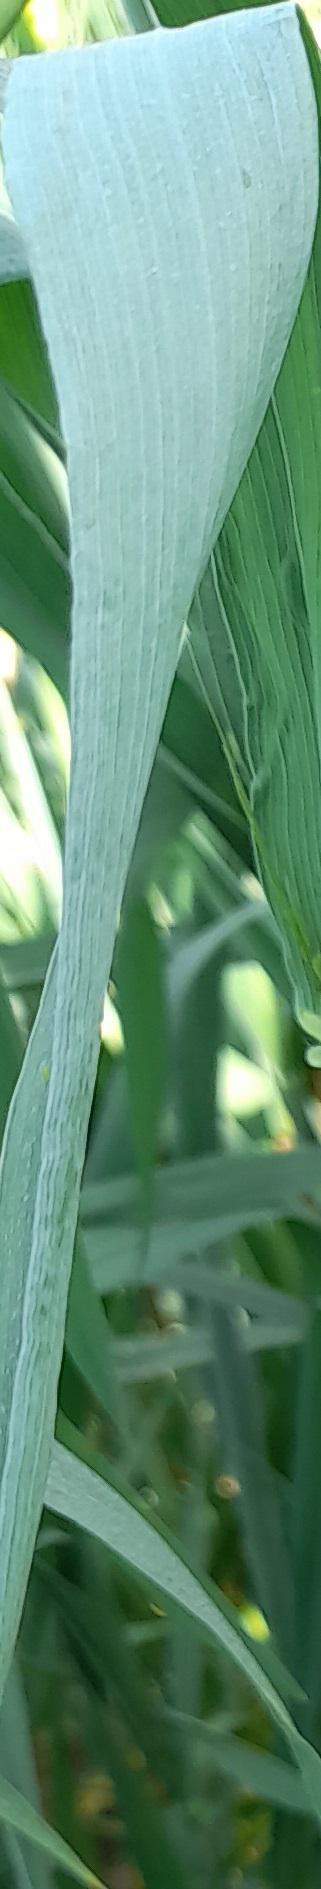Wheat: (12, 76, 305, 259), (83, 476, 177, 911), (76, 286, 246, 416)
